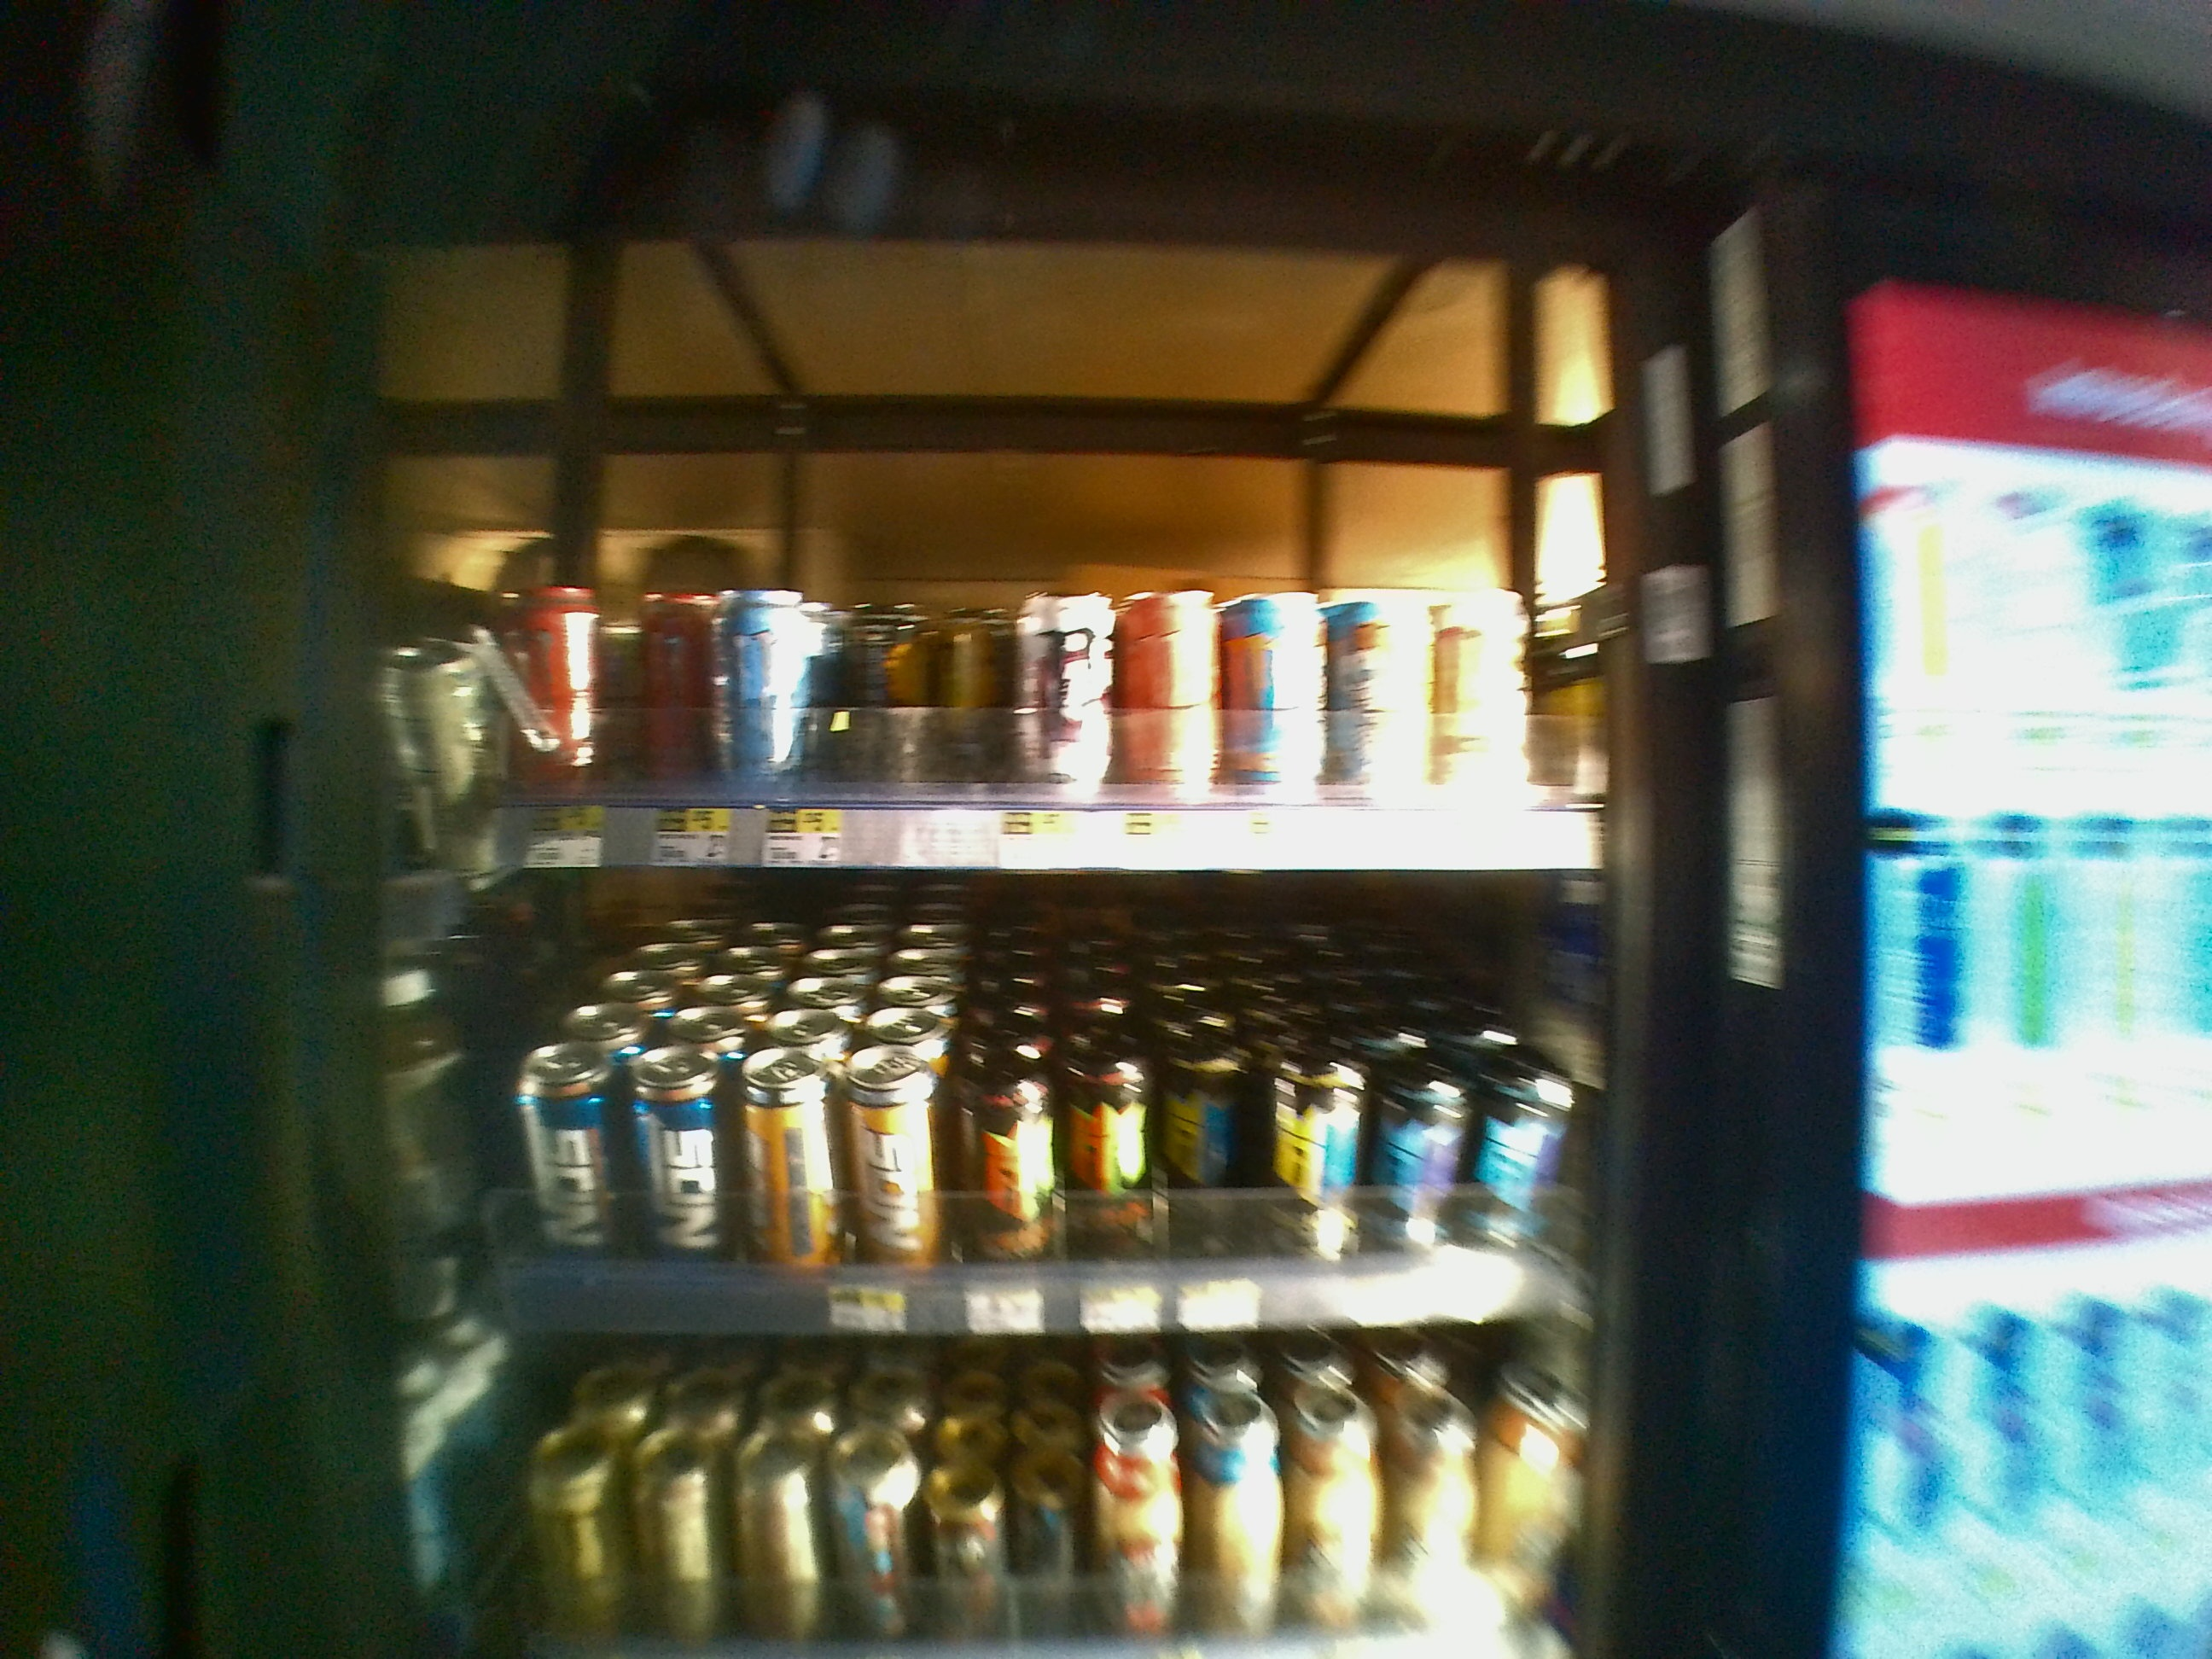shelf: (387, 240, 1616, 871), (385, 871, 1635, 1328)
